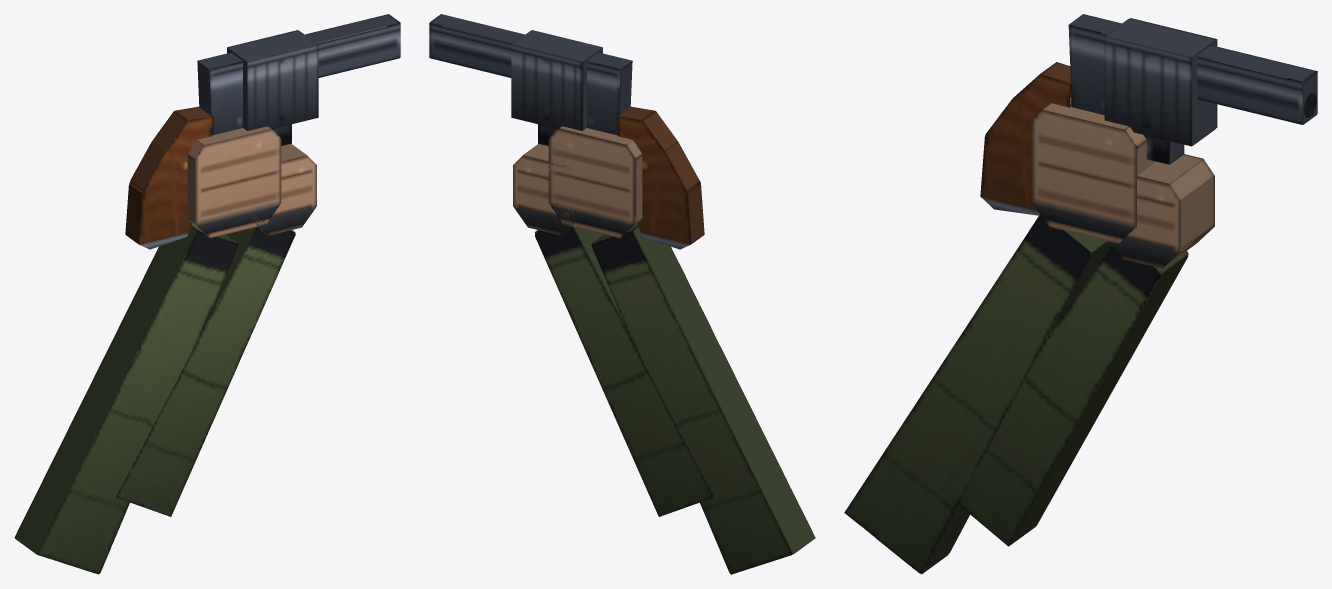
File: revolver_fp_model.obj
The picture shows the model from 3 angles, left to right: view 1: azimuth 30°, elevation 25°; view 2: azimuth 150°, elevation 25°; view 3: azimuth 330°, elevation 25°; orthographic projection. The views are drawn at different scales.
Size of the model in its own units: 19.67 by 24.2 by 2.6.
Materials: 1 (1 with a texture image).
